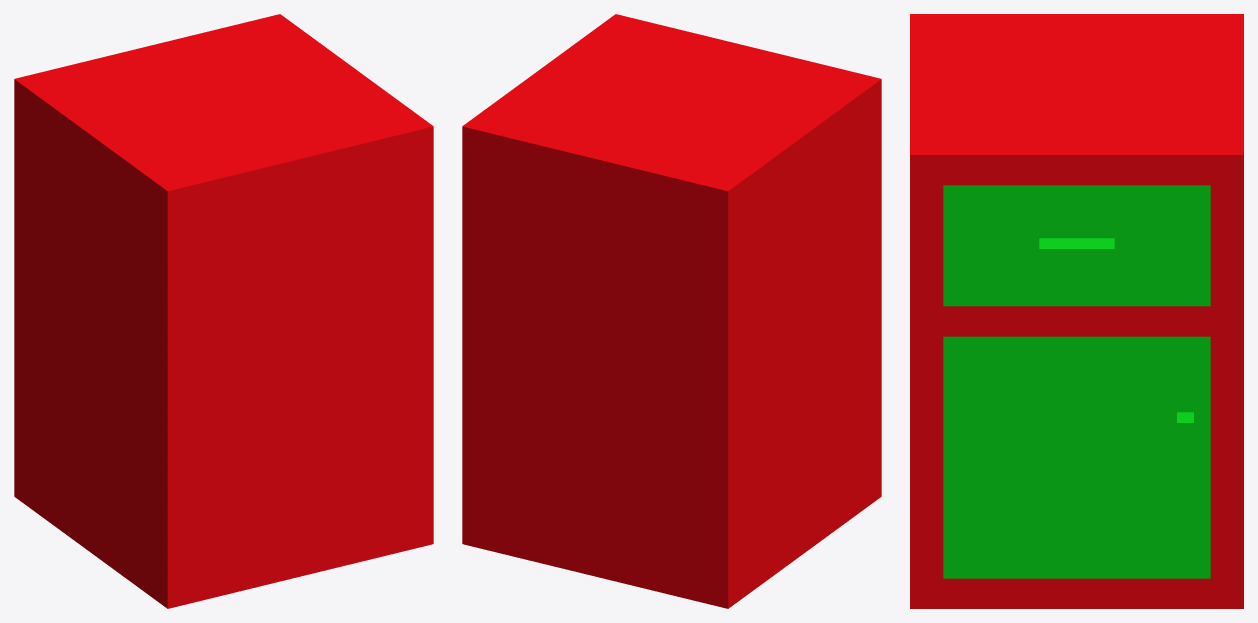
Rendered from TestCupboard.fbx.
3 views of the same model, side by side, from view 1: azimuth 30°, elevation 25°; view 2: azimuth 150°, elevation 25°; view 3: azimuth 270°, elevation 25° (orthographic). The views are drawn at different scales.
Parts seen in each view (by area): view 1: TestCupboard; view 2: TestCupboard; view 3: TestCupboard, Door, Drawer.
Boxes of the visible parts, bbox=[...] form: TestCupboard: bbox=[14, 14, 433, 608]; TestCupboard: bbox=[462, 14, 881, 608]; TestCupboard: bbox=[910, 14, 1243, 608]; Door: bbox=[943, 336, 1210, 578]; Drawer: bbox=[943, 185, 1210, 306].
Bounding box in the file's own units: 215 × 300 × 200.
